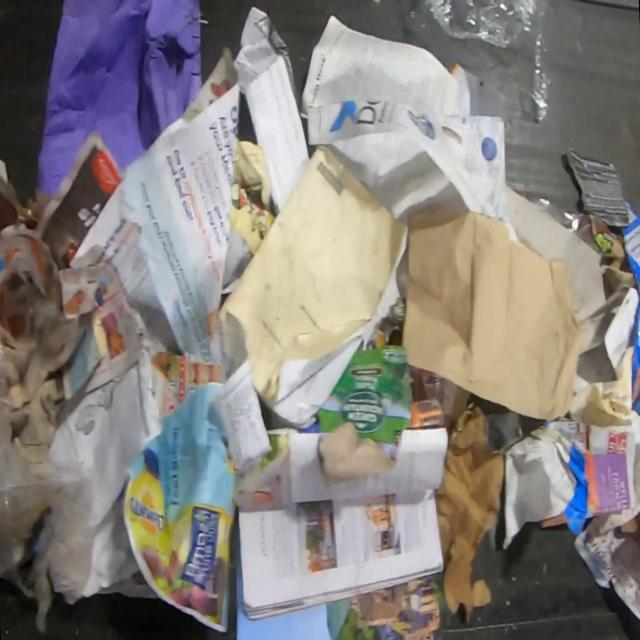cardboard: (37, 0, 202, 198), (501, 421, 591, 550), (317, 346, 413, 446), (566, 148, 630, 227), (620, 200, 640, 418)
soft_plastic: (0, 439, 97, 635), (422, 0, 552, 122)
